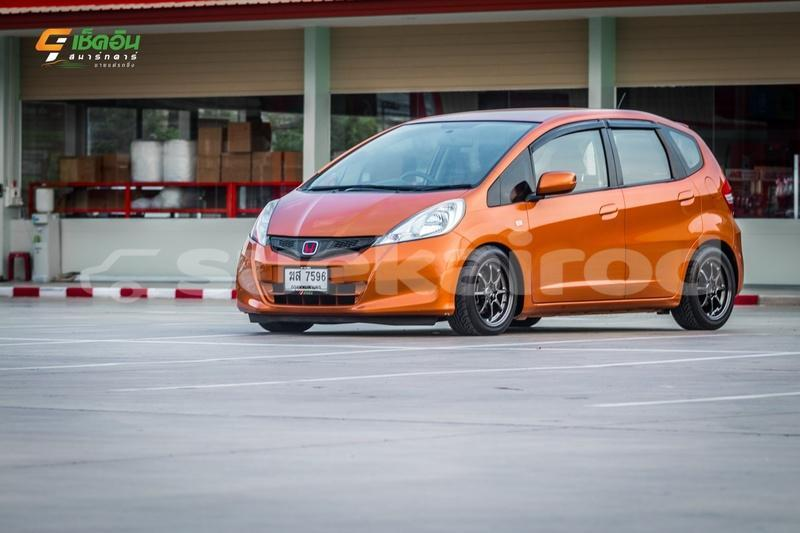Hatchback: (216, 98, 757, 345)
